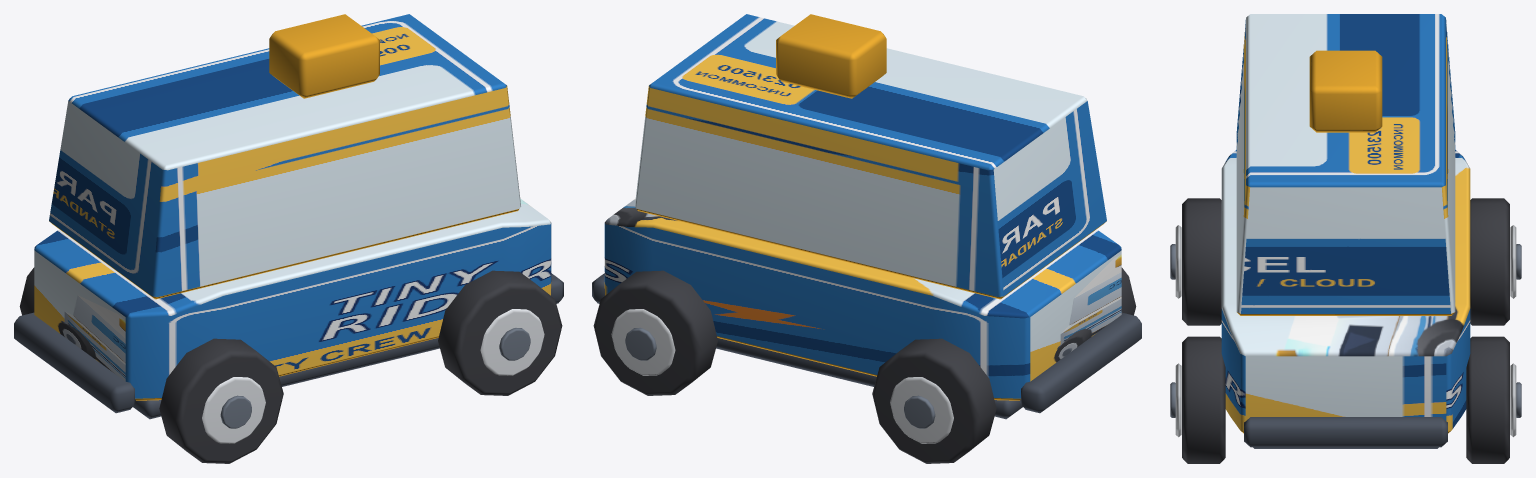
3 renders of one model, left to right at view 1: azimuth 30°, elevation 25°; view 2: azimuth 150°, elevation 25°; view 3: azimuth 270°, elevation 25°, orthographic.
Parts seen in each view (by area): view 1: CC-03_cabin, CC-03_connected_shell, Tire, Tire.002, roof sign, front bumper, Rim.002, Rim, underbody, Hub.002, Hub; view 2: CC-03_cabin, CC-03_connected_shell, Tire.001, Tire.003, roof sign, front bumper, Rim.003, Rim.001, underbody, Hub.003, Hub.001; view 3: CC-03_cabin, CC-03_connected_shell, rear bumper, roof sign, Tire.002, Tire.003, Tire, Tire.001, Rim, Rim.001, Rim.002, Rim.003 (+1 smaller).
Boxes of the visible parts, x1=… form: CC-03_cabin: x1=49, y1=14, x2=520, y2=299; CC-03_connected_shell: x1=34, y1=199, x2=551, y2=400; Tire: x1=159, y1=338, x2=283, y2=463; Tire.002: x1=438, y1=270, x2=562, y2=395; roof sign: x1=269, y1=14, x2=379, y2=98; front bumper: x1=14, y1=312, x2=135, y2=413; Rim.002: x1=480, y1=309, x2=544, y2=375; Rim: x1=202, y1=377, x2=265, y2=443; underbody: x1=133, y1=338, x2=439, y2=419; Hub.002: x1=499, y1=328, x2=530, y2=360; Hub: x1=220, y1=395, x2=251, y2=428; CC-03_cabin: x1=635, y1=14, x2=1106, y2=299; CC-03_connected_shell: x1=604, y1=199, x2=1121, y2=400; Tire.001: x1=872, y1=338, x2=996, y2=463; Tire.003: x1=593, y1=270, x2=717, y2=395; roof sign: x1=776, y1=14, x2=886, y2=98; front bumper: x1=1020, y1=312, x2=1141, y2=413; Rim.003: x1=611, y1=309, x2=675, y2=375; Rim.001: x1=890, y1=377, x2=953, y2=443; underbody: x1=716, y1=338, x2=1022, y2=419; Hub.003: x1=625, y1=328, x2=656, y2=360; Hub.001: x1=904, y1=395, x2=935, y2=428; CC-03_cabin: x1=1236, y1=14, x2=1455, y2=315; CC-03_connected_shell: x1=1221, y1=150, x2=1470, y2=433; rear bumper: x1=1244, y1=417, x2=1447, y2=447; roof sign: x1=1309, y1=50, x2=1382, y2=132; Tire.002: x1=1182, y1=336, x2=1225, y2=463; Tire.003: x1=1466, y1=336, x2=1509, y2=463; Tire: x1=1182, y1=198, x2=1221, y2=325; Tire.001: x1=1470, y1=198, x2=1509, y2=325; Rim: x1=1175, y1=225, x2=1181, y2=298; Rim.001: x1=1510, y1=225, x2=1516, y2=298; Rim.002: x1=1175, y1=363, x2=1181, y2=437; Rim.003: x1=1510, y1=363, x2=1516, y2=437.
Size of the model in its own units: 318 by 222 by 209.
